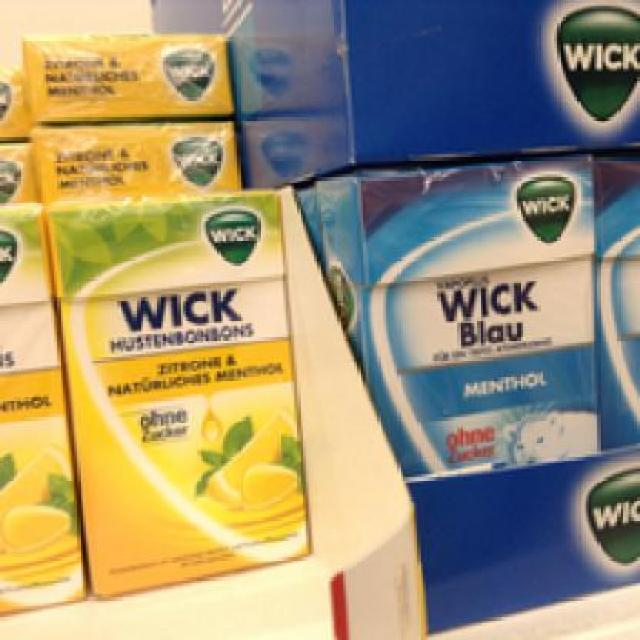Candy: (49, 188, 320, 594), (310, 157, 606, 477)
